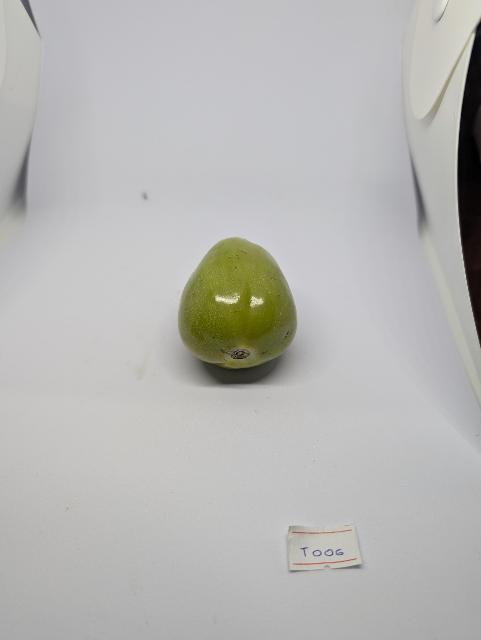green: (179, 235, 299, 369)
